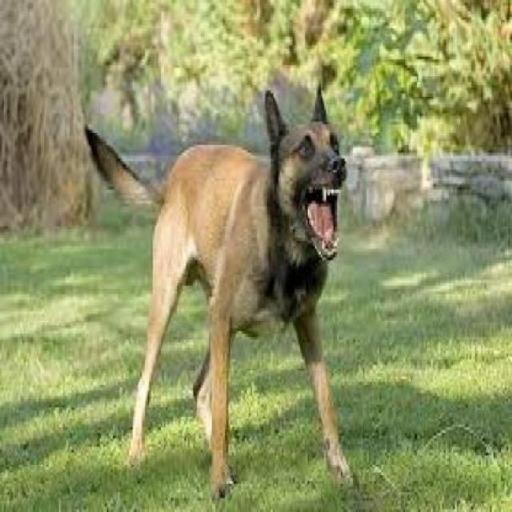Dog: (86, 95, 364, 503)
